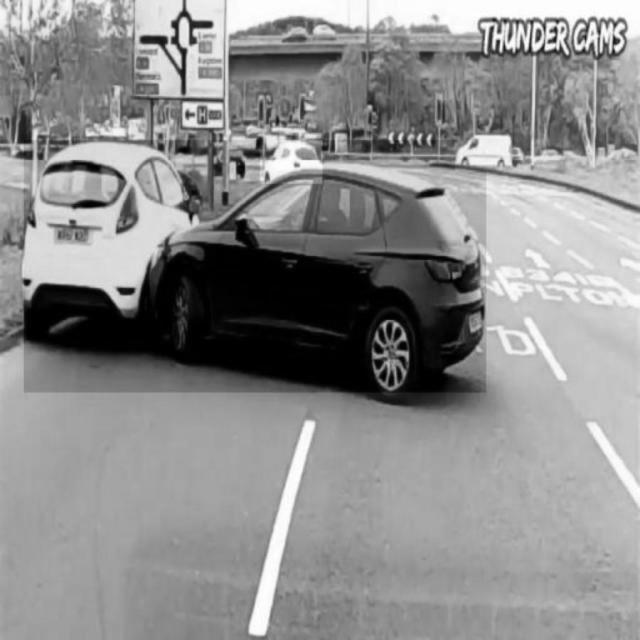accident: (25, 140, 487, 392)
vehicle: (260, 138, 324, 184), (455, 133, 516, 171)
